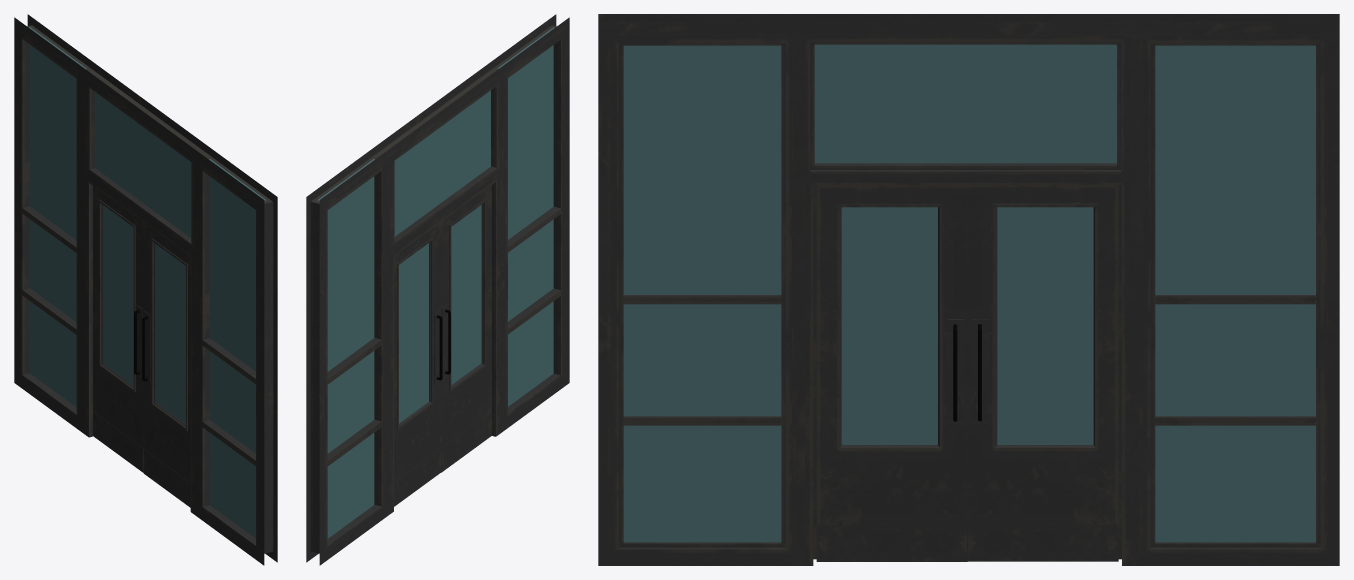
File: Double_Door_Grp.fbx
3 renders of one model, left to right at view 1: azimuth 30°, elevation 25°; view 2: azimuth 150°, elevation 25°; view 3: azimuth 270°, elevation 25°, orthographic. The views are drawn at different scales.
Visible parts, largest first — view 1: Frame, glass2, Door2 (×2), Glass2 (×2), glass3, Frame2; view 2: Frame, glass2, Door2 (×2), Glass2 (×2), glass3, Frame2; view 3: glass2, Frame, Door2 (×2), Glass2 (×2), glass3, Frame2.
Part boxes in pixels (bbox=[...]): Frame: bbox=[14, 14, 277, 565]; glass2: bbox=[28, 27, 266, 538]; Door2 (×2): bbox=[93, 186, 190, 507]; Glass2 (×2): bbox=[103, 205, 185, 423]; glass3: bbox=[95, 92, 191, 237]; Frame2: bbox=[85, 173, 194, 514]; Frame: bbox=[306, 14, 569, 565]; glass2: bbox=[317, 27, 554, 538]; Door2 (×2): bbox=[394, 185, 491, 506]; Glass2 (×2): bbox=[399, 205, 481, 423]; glass3: bbox=[394, 90, 490, 236]; Frame2: bbox=[390, 172, 499, 513]; glass2: bbox=[623, 45, 1315, 542]; Frame: bbox=[598, 14, 1339, 565]; Door2 (×2): bbox=[816, 185, 1118, 561]; Glass2 (×2): bbox=[841, 207, 1093, 444]; glass3: bbox=[814, 44, 1116, 163]; Frame2: bbox=[805, 177, 1130, 565].
Size of the model in its own units: 15.64 by 361 by 447.
